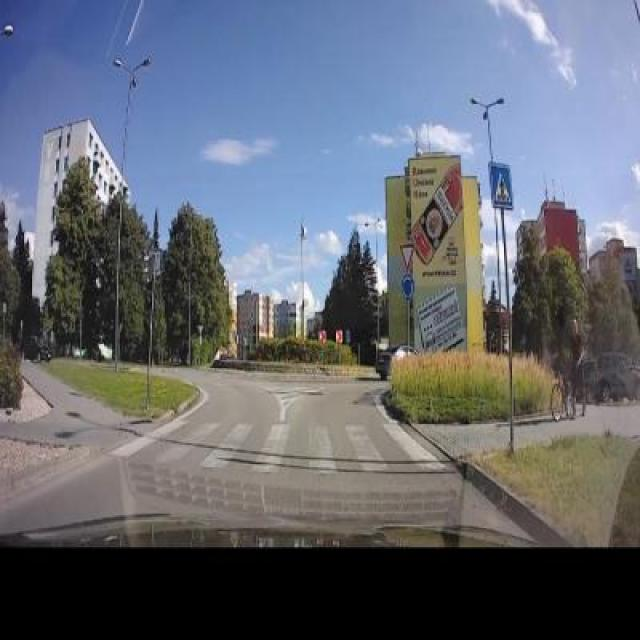clear-road: (166, 371, 411, 488)
